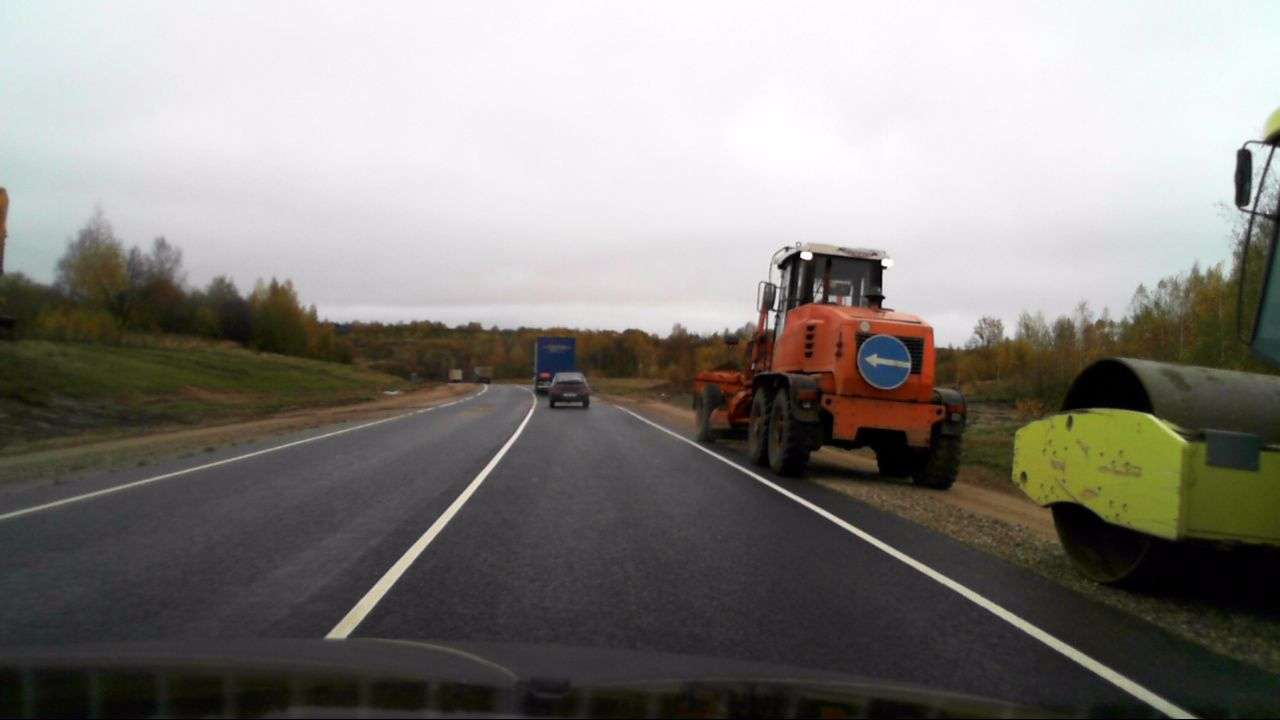Turn Left: (857, 335, 912, 390)
